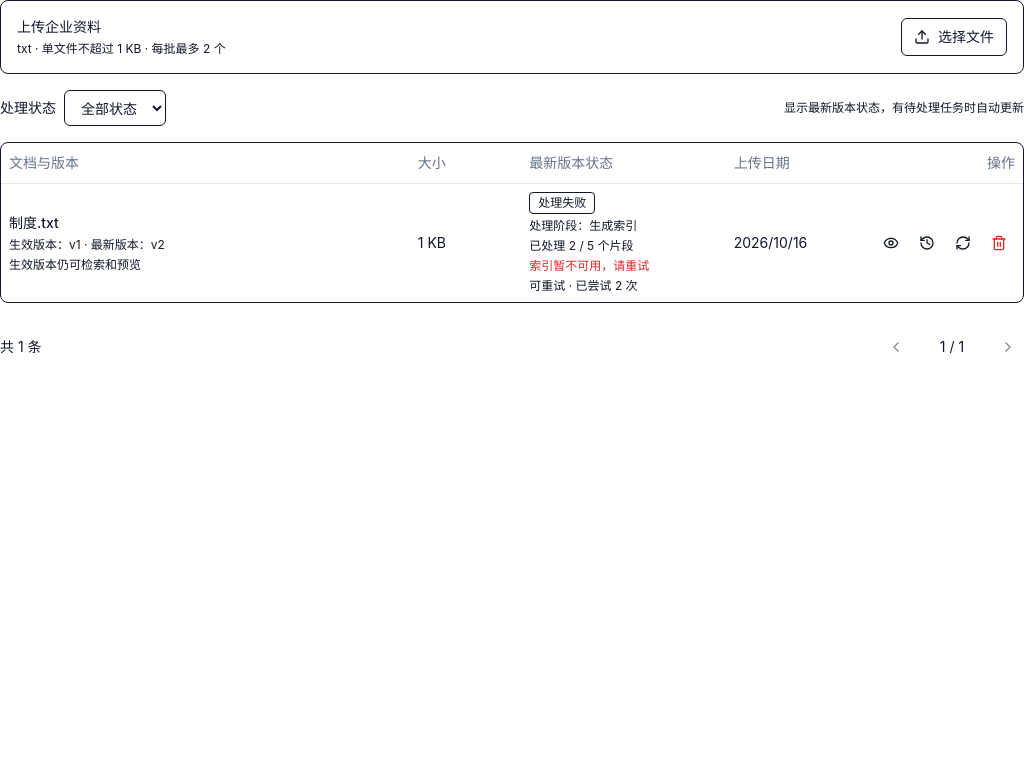
Scenario: document versions › refreshes on revision conflict and requires a new delete confirmation
Click the button named "删除 制度.txt". click: (999, 242)
box: x1=983 y1=226 x2=1015 y2=258
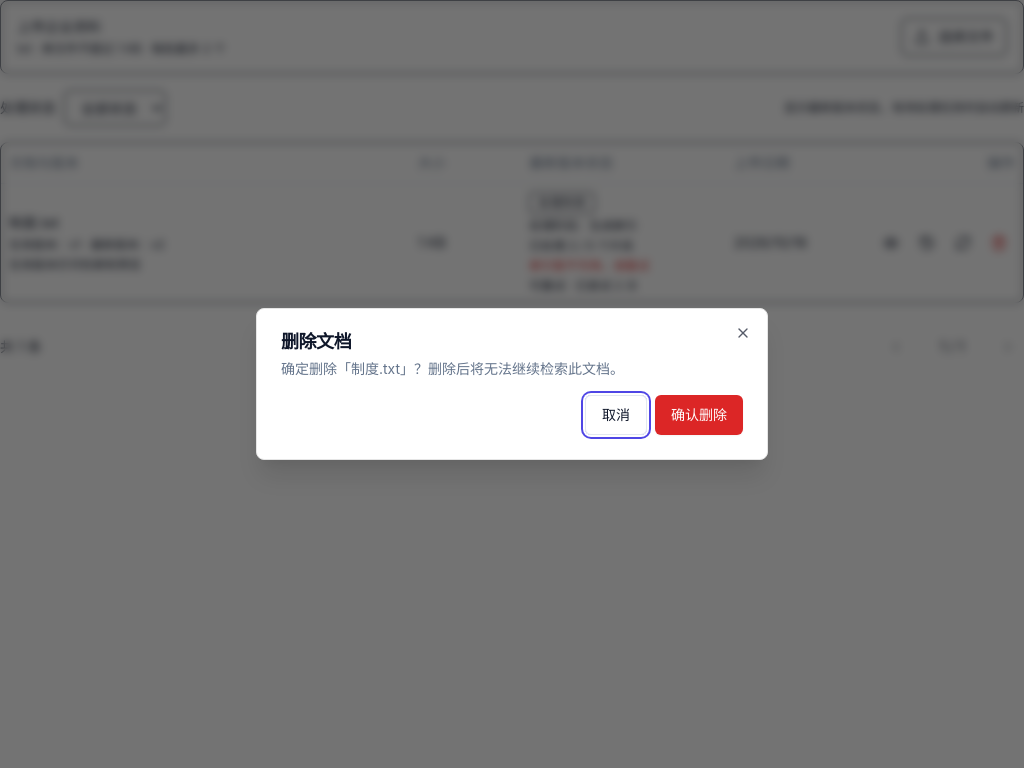
Click the button "确认删除". click: (699, 415)
box: x1=655 y1=395 x2=743 y2=435
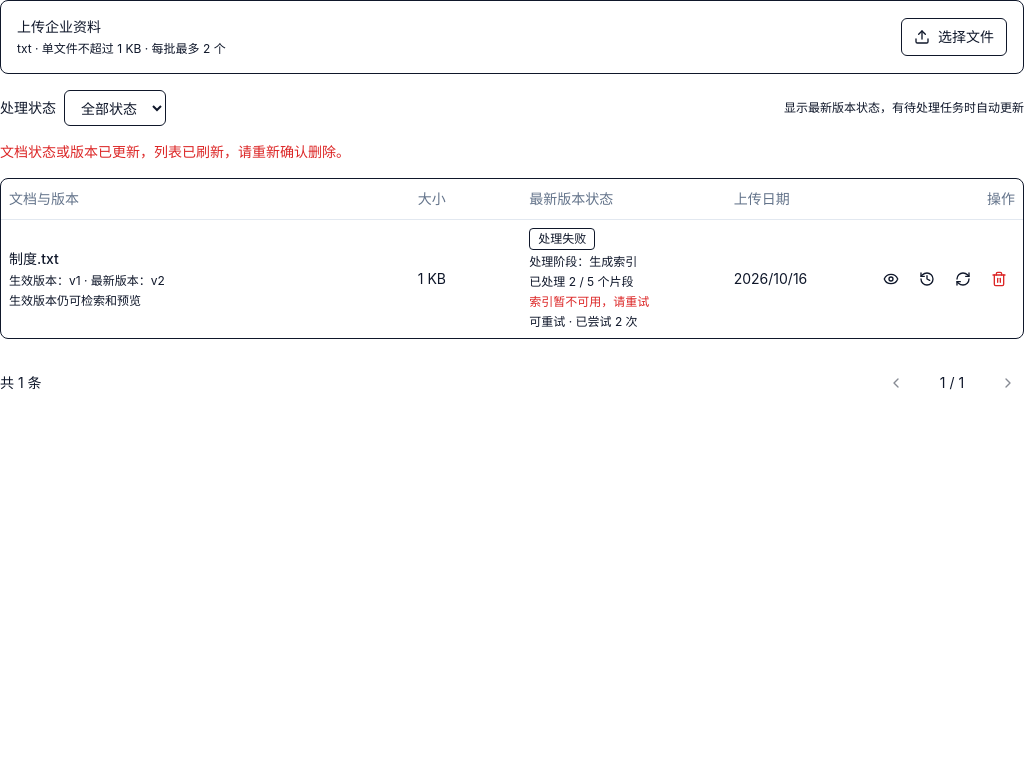
expect the message shows "请重新确认删除": met, box x1=0 y1=143 x2=350 y2=160
